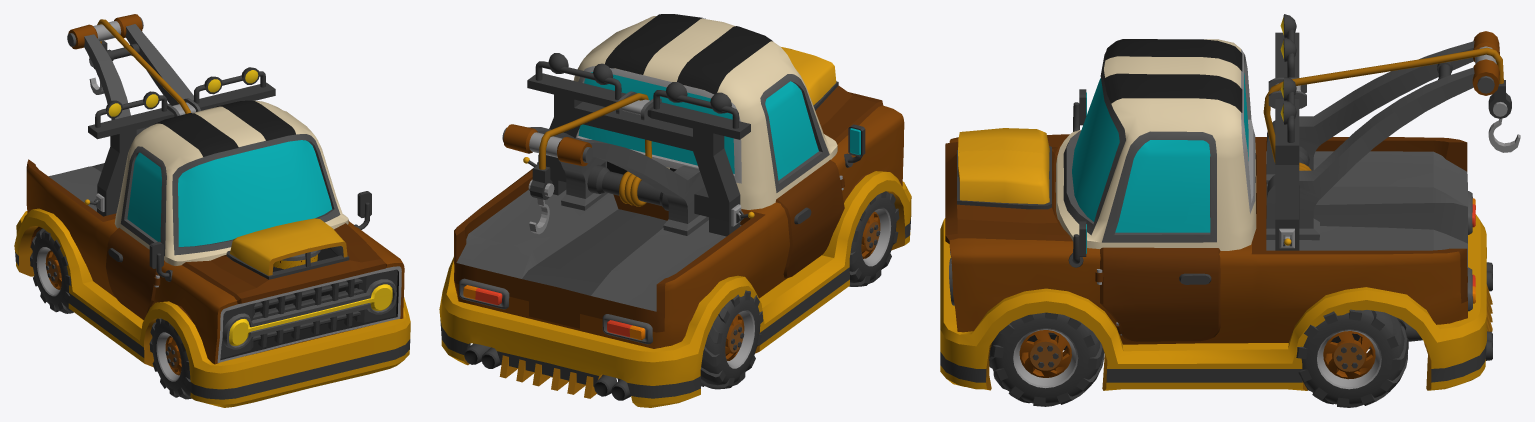
Rendered from VEH6-B.fbx.
The picture shows the model from 3 angles, left to right: view 1: azimuth 30°, elevation 25°; view 2: azimuth 150°, elevation 25°; view 3: azimuth 270°, elevation 25°; orthographic projection. The views are drawn at different scales.
Parts seen in each view (by area): view 1: VEH6_B, V6B_Wheel_BR, V6B_Wheel_FR, V6B_BodyParts; view 2: VEH6_B, V6B_Wheel_BR, V6B_Wheel_FR, V6B_BodyParts; view 3: VEH6_B, V6B_Wheel_BL, V6B_Wheel_FL, V6B_BodyParts.
Boxes of the visible parts, x1,y1,x2,y2 form: VEH6_B: (14, 14, 410, 407); V6B_Wheel_BR: (30, 228, 73, 313); V6B_Wheel_FR: (149, 318, 191, 399); V6B_BodyParts: (97, 19, 190, 113); VEH6_B: (439, 14, 911, 407); V6B_Wheel_BR: (700, 290, 763, 389); V6B_Wheel_FR: (849, 191, 899, 286); V6B_BodyParts: (539, 93, 651, 206); VEH6_B: (940, 14, 1520, 390); V6B_Wheel_BL: (1296, 309, 1408, 407); V6B_Wheel_FL: (989, 312, 1104, 406); V6B_BodyParts: (1263, 47, 1503, 170).
Size of the model in its own units: 247 by 246 by 435.
1 material, 1 textured.
